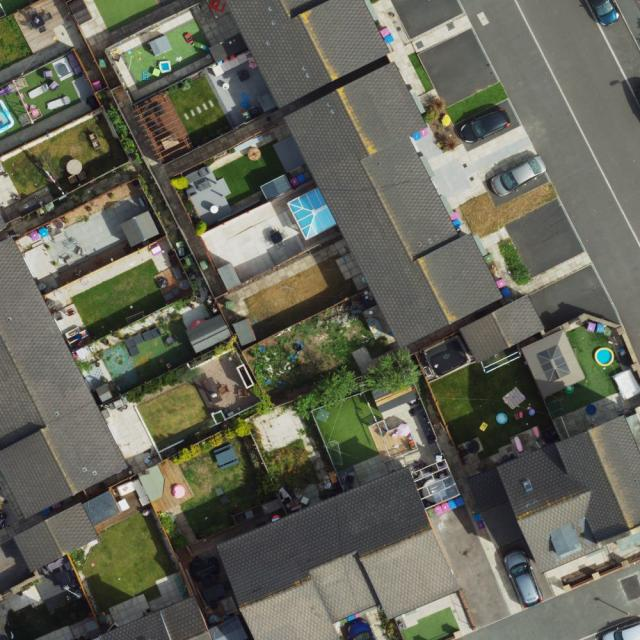roof: (285, 65, 504, 349), (215, 468, 453, 639), (0, 236, 129, 523), (499, 418, 640, 573), (226, 0, 390, 108), (11, 502, 98, 573), (90, 594, 211, 639), (460, 301, 544, 364)
skylight: (286, 186, 339, 238), (521, 478, 538, 494)
